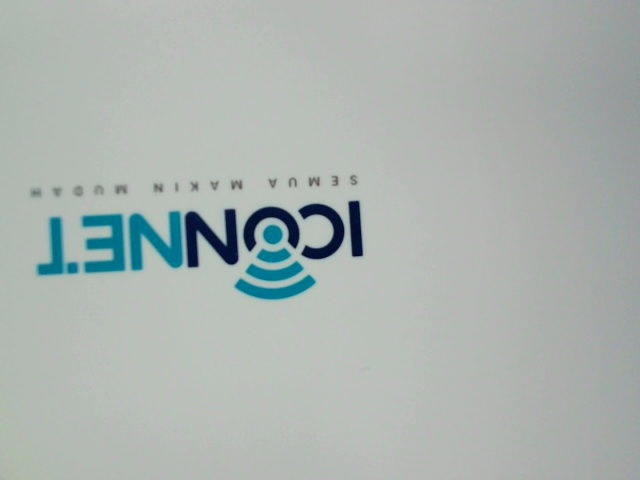BM_ICONNET: (14, 160, 392, 321)
